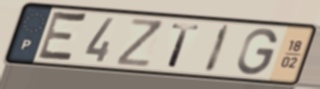4: (82, 17, 115, 64)
E: (34, 8, 91, 65)
G: (236, 27, 280, 77)
I: (202, 22, 234, 75)
T: (166, 22, 203, 69)
Z: (114, 16, 166, 69)
